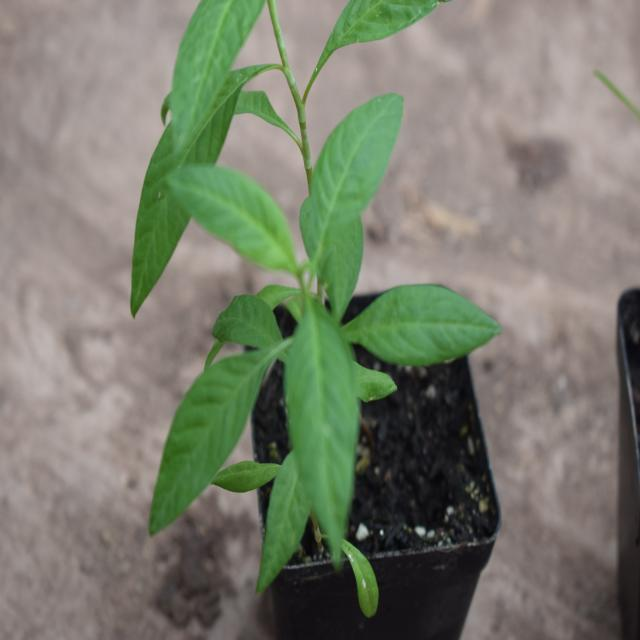white_smart_weed: (159, 82, 460, 562)
